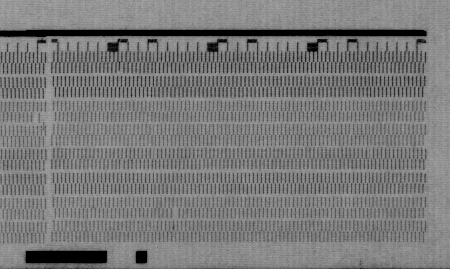Broken hole: (30, 111, 50, 123), (170, 207, 180, 218)
Oblique printing: (113, 61, 125, 75), (40, 120, 48, 133)
